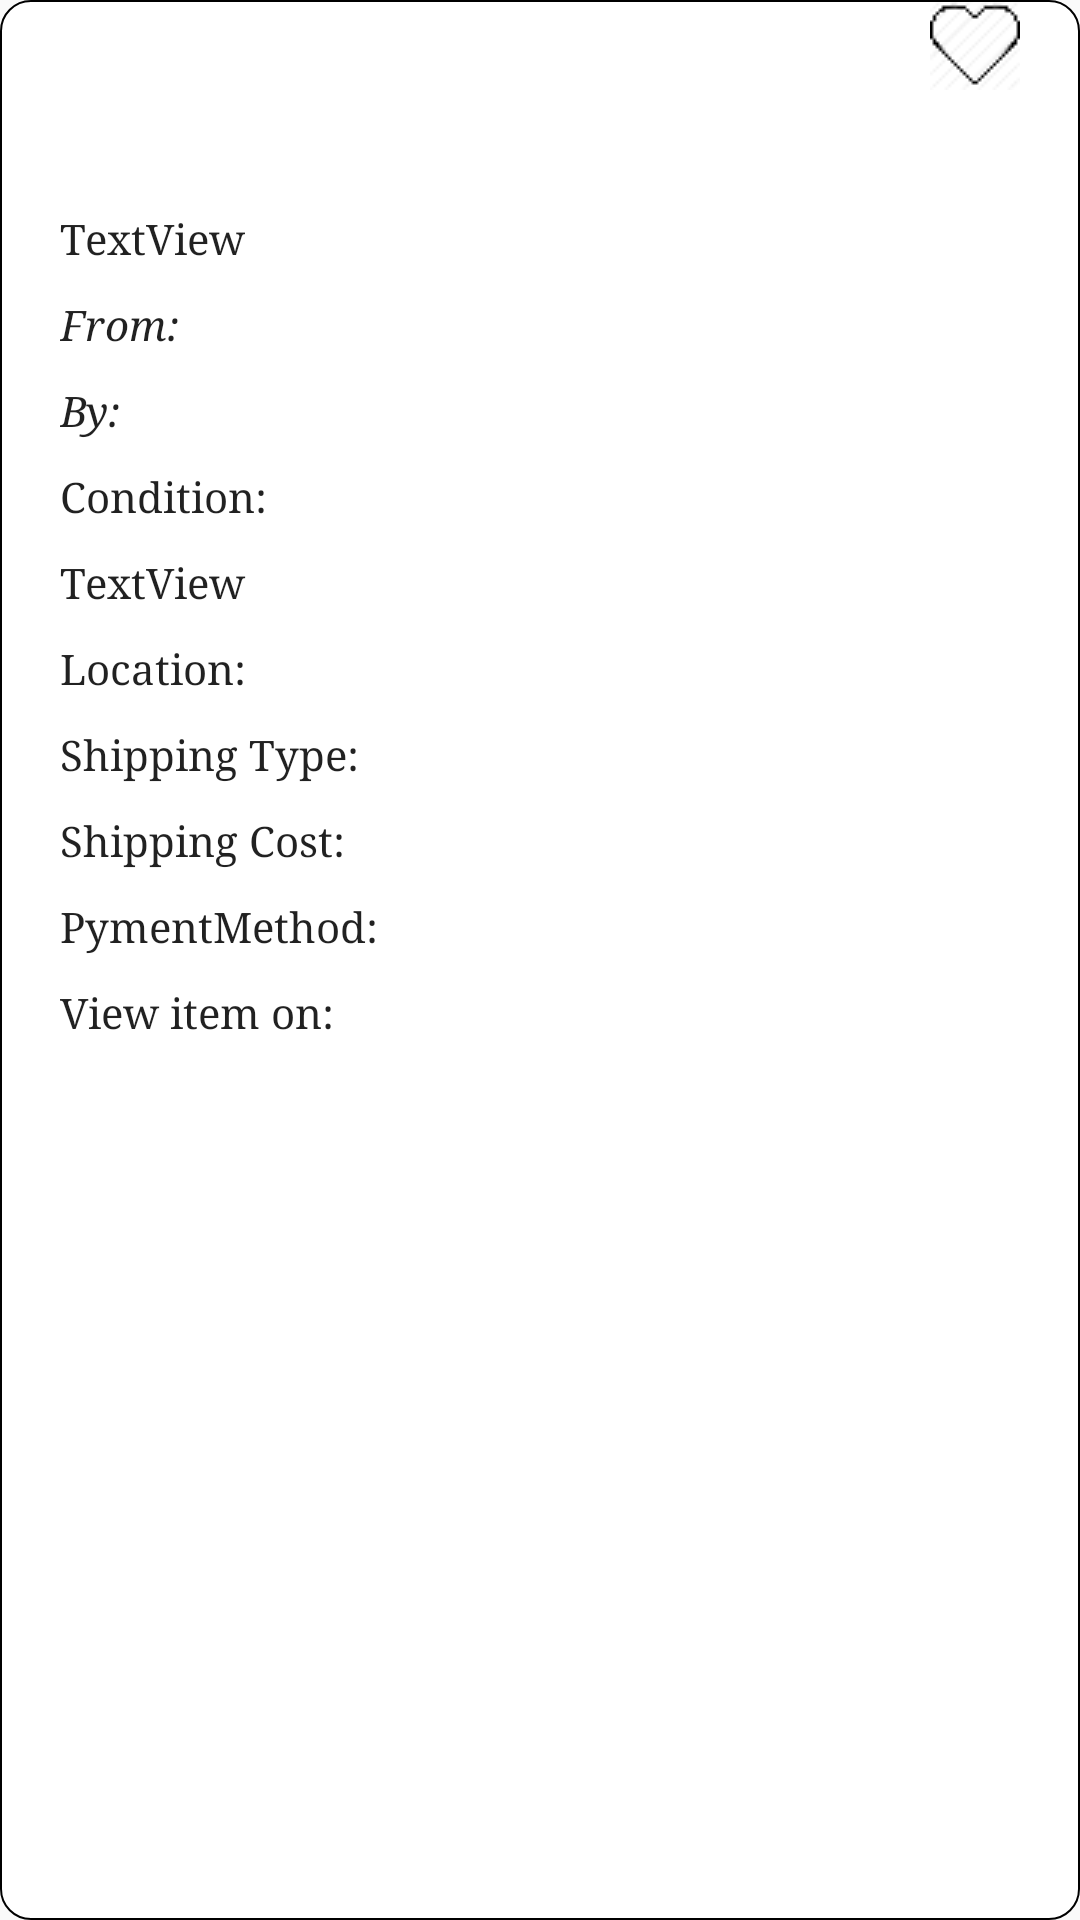

Point at icon controls on the screen. Image size 1080px x 1920px, points as [x,y].
favourite: [975,44]
